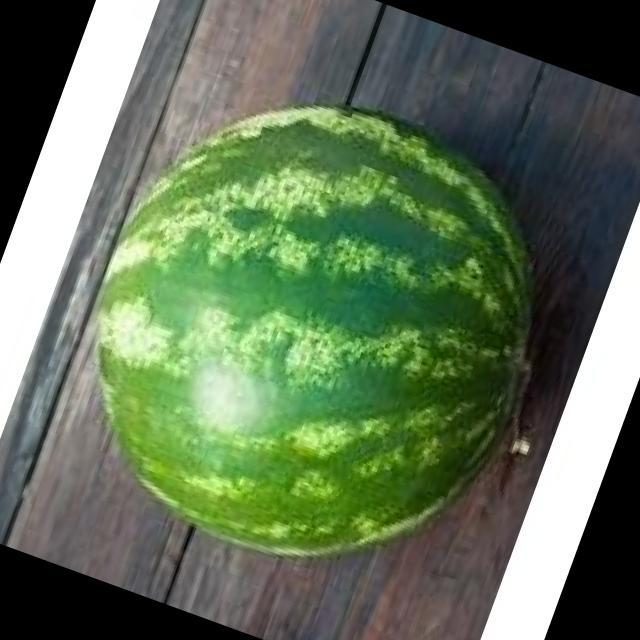watermelon: (97, 107, 529, 555)
